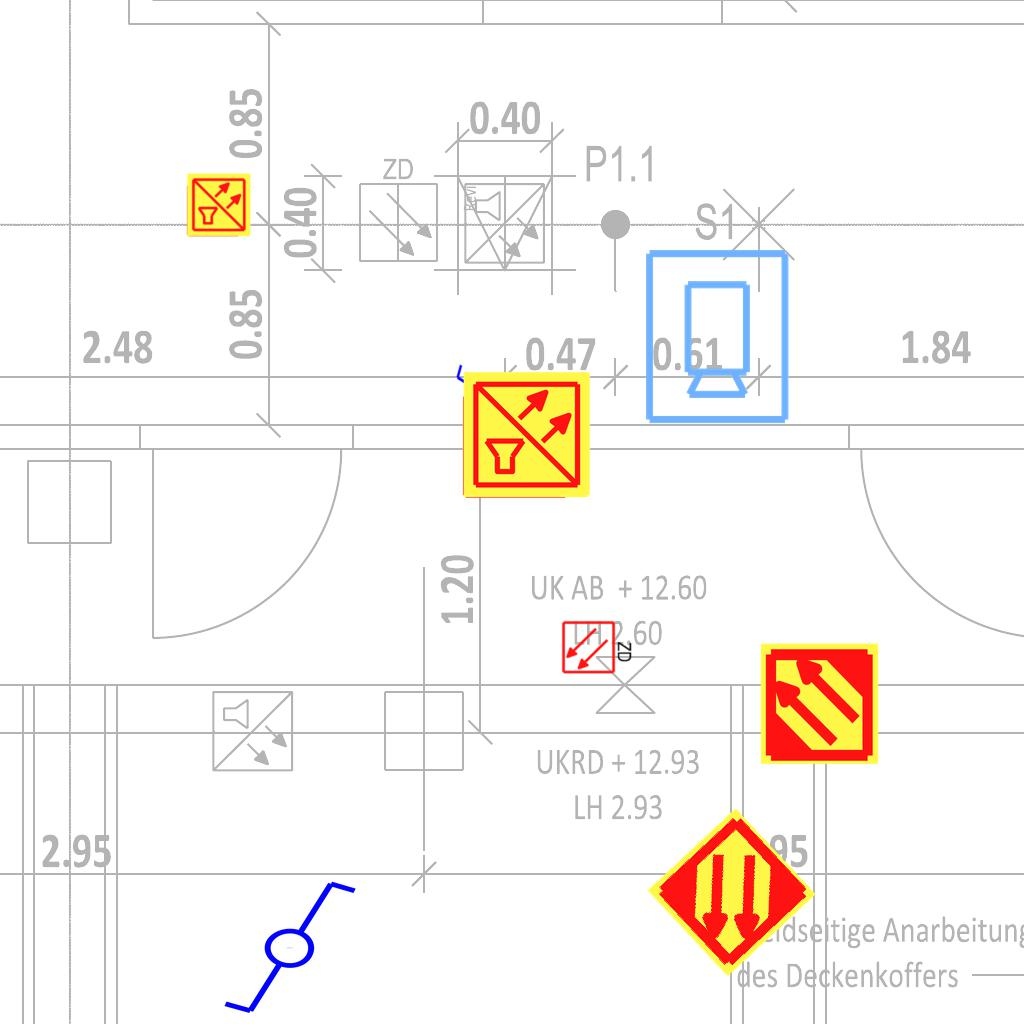ASR_Ansaugrauchmelder: (643, 804, 820, 981), (757, 641, 882, 766)
KFO_Kamera_mit_Festobjektiv: (639, 245, 793, 427)
OKW_Multisensormelder_(Kombination_optischer_Rauch-Kahlenmonoxid_Waerme-Melder): (461, 369, 593, 501), (186, 172, 252, 238)
Wechselschalter: (203, 874, 360, 1018), (454, 354, 526, 432)
ZD_Melder_in_Zwischendecke_mit_Revisionsoeffnung_mind_40_x_40_cm: (561, 618, 635, 675)
